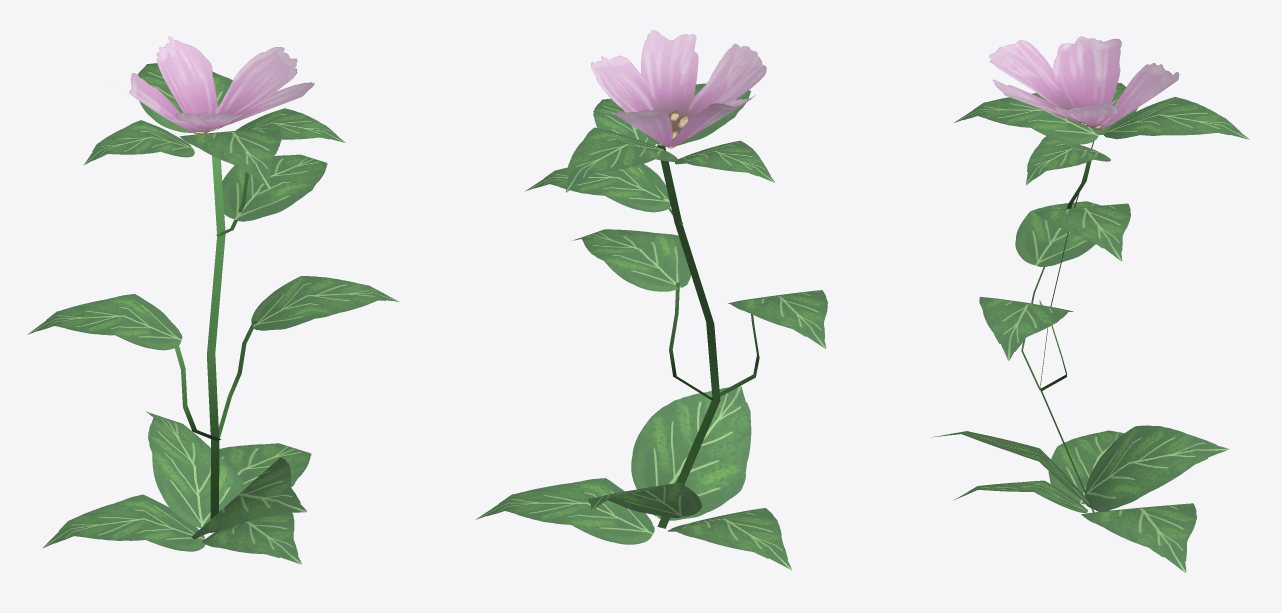
The model's file is roseMallowFlower_A.fbx.
The picture shows the model from 3 angles, left to right: view 1: azimuth 30°, elevation 25°; view 2: azimuth 150°, elevation 25°; view 3: azimuth 270°, elevation 25°; orthographic projection. The views are drawn at different scales.
Visible parts, largest first — view 1: roseMallowFlower_A_geo; view 2: roseMallowFlower_A_geo; view 3: roseMallowFlower_A_geo.
Boxes of the visible parts, <box> form: roseMallowFlower_A_geo: <box>27,36,399,564</box>; roseMallowFlower_A_geo: <box>475,30,827,570</box>; roseMallowFlower_A_geo: <box>930,36,1249,572</box>.
Size of the model in its own units: 36.59 by 43.2 by 31.7.
